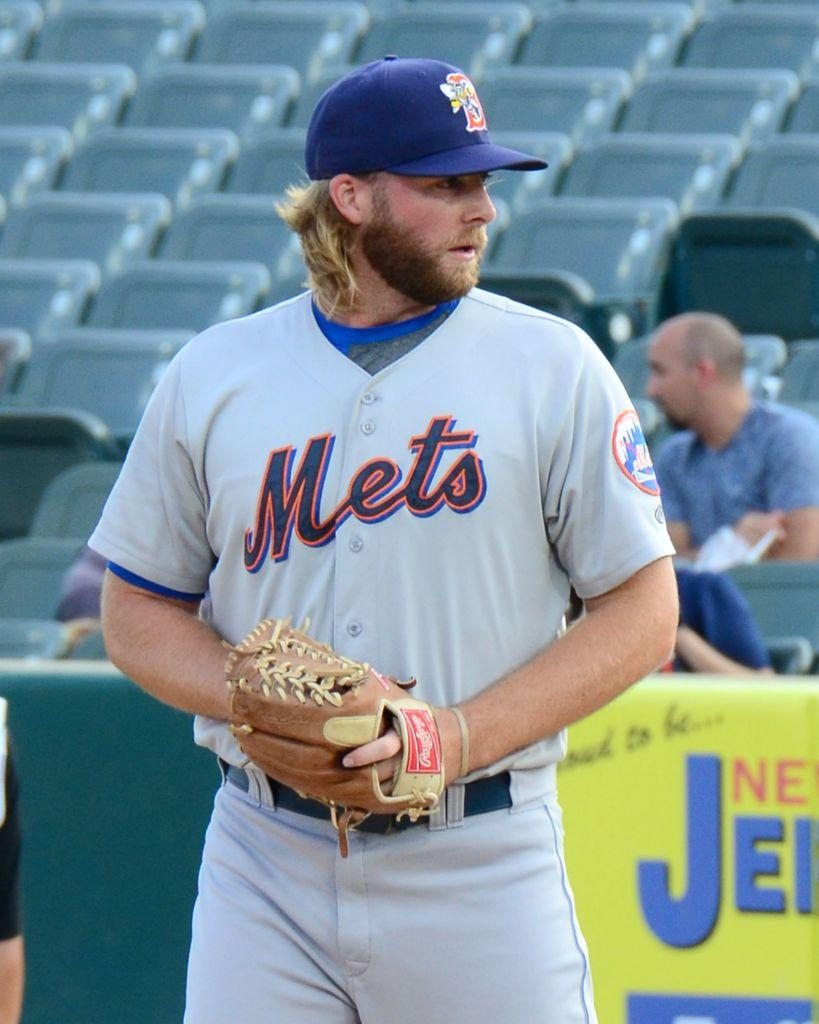Hat: (306, 56, 546, 180)
